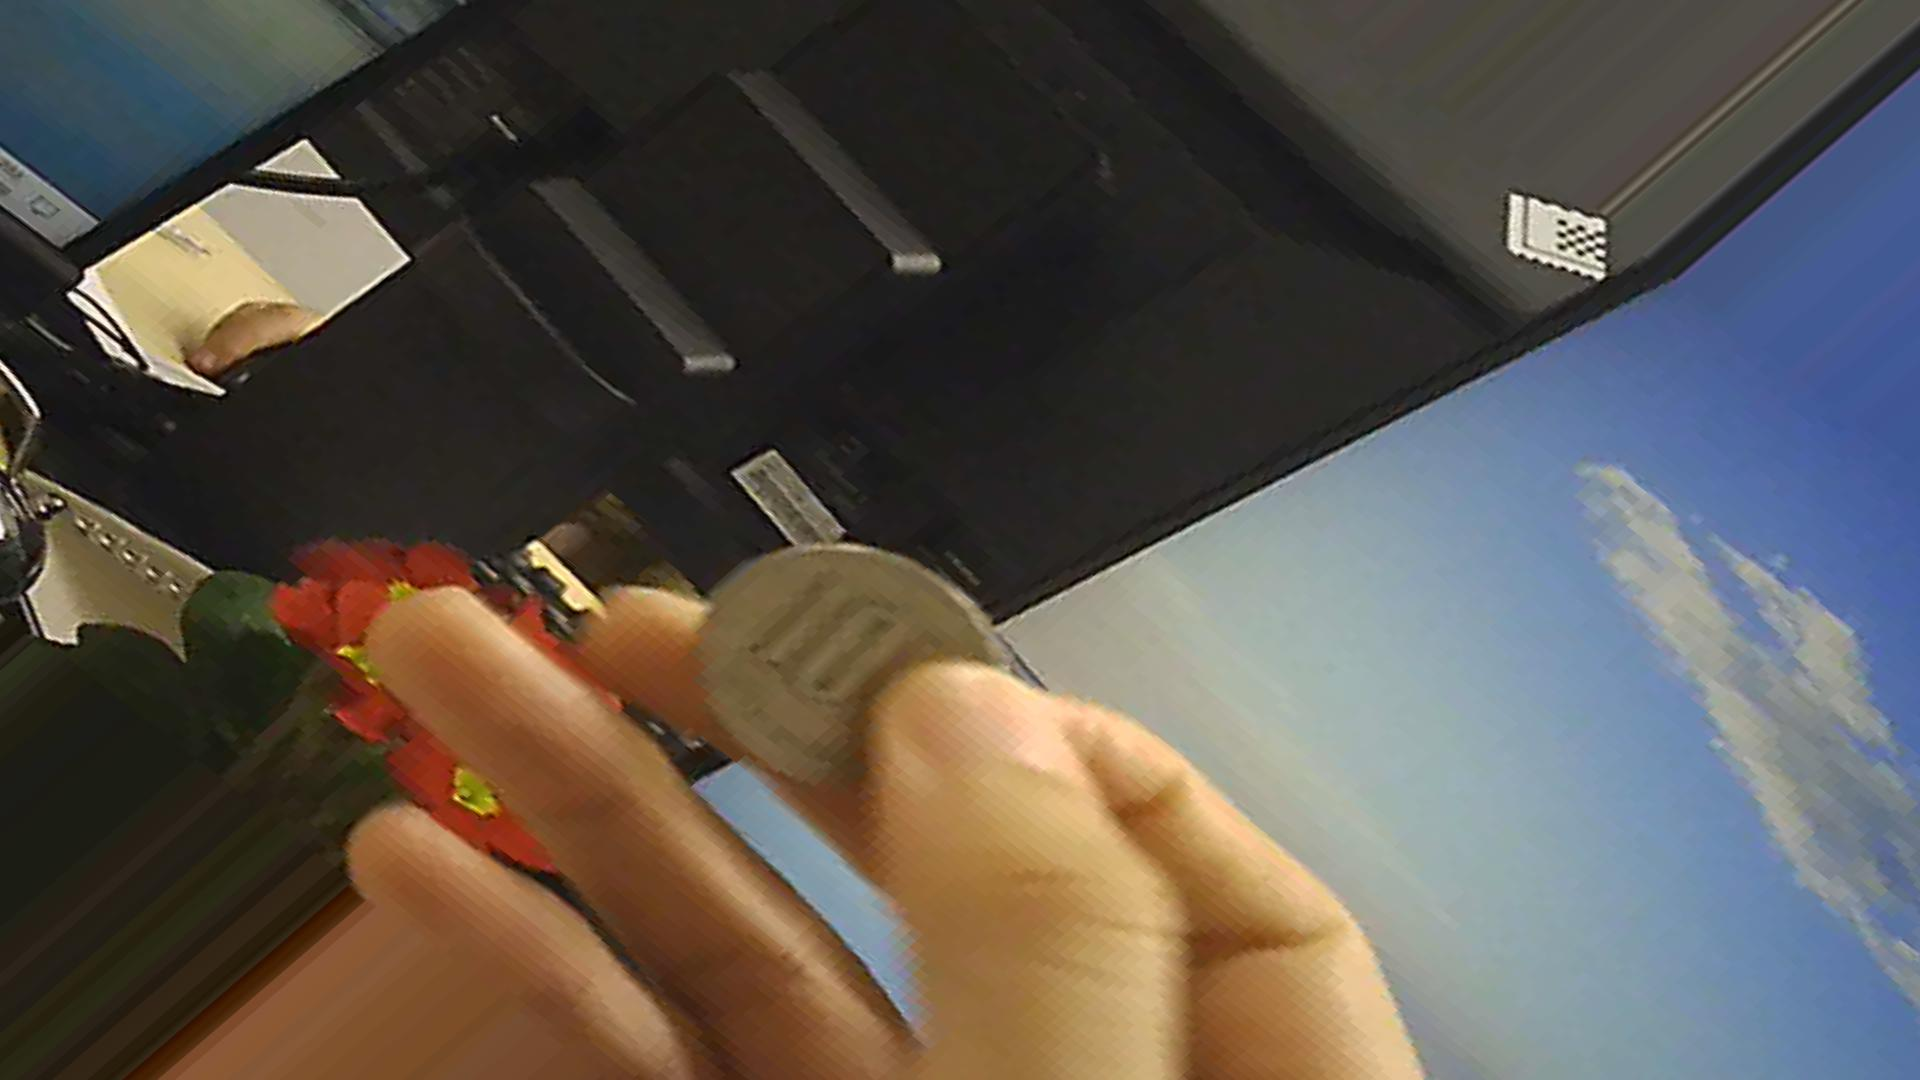100 Yen: (673, 520, 1036, 770)
